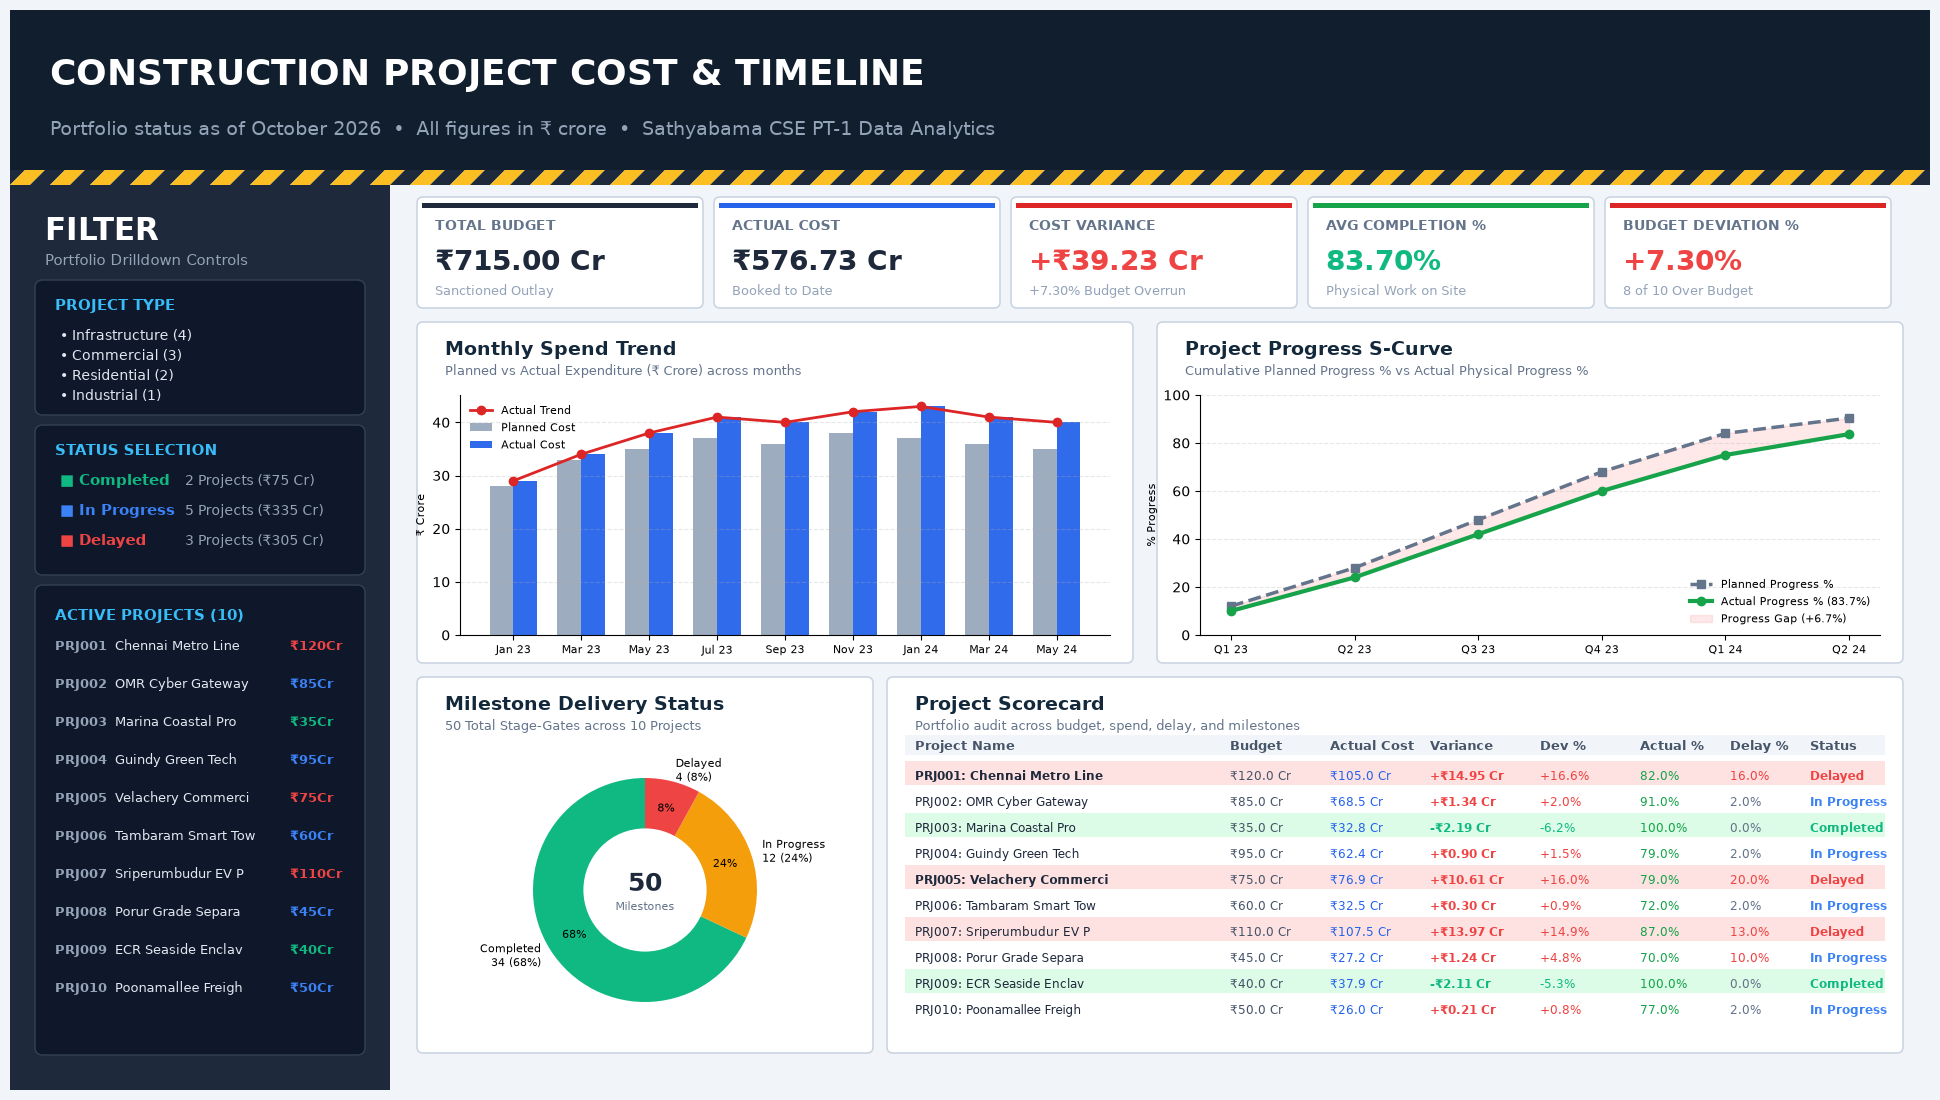

This screenshot's page, from the dashboard's own definition file:
{"tool":"powerbi","page":{"name":"Page 1","canvas":[1920,1080],"ordinal":0},"visuals":[{"type":"shape","box":[0,223.1,407.7,856.4],"z":0},{"type":"cardVisual","fields":{"Data":["_Measures.Total Budget","_Measures.Actual Cost","_Measures.Cost Variance","_Measures.Budget Deviation %","_Measures.Average Project Completion %"]},"box":[407.7,223.1,1512.8,123.1],"z":1000},{"type":"lineClusteredColumnComboChart","title":"Monthly Spend Trend","fields":{"Category":["Project_Cost.Date"],"Y":["_Measures.Planned Cost"],"Y2":["_Measures.Actual Cost"]},"box":[407.7,346.2,648.7,346.2],"z":4000},{"type":"lineChart","title":"Project Progress S-Curve","fields":{"Category":["Project_Progress.Date"],"Y":["_Measures.Planned Progress %"],"Y2":["_Measures.Project Completion %"]},"box":[1056.4,346.2,864.1,346.2],"z":5000},{"type":"donutChart","fields":{"Category":["Milestones.Status"],"Y":["_Measures.Total Milestones"]},"box":[443.6,723.1,612.8,356.4],"z":6000},{"type":"pivotTable","title":"Project Scorecard","fields":{"Rows":["Projects.Project Name"],"Values":["_Measures.Total Budget","_Measures.Actual Cost","_Measures.Cost Variance","_Measures.Budget Deviation %","_Measures.Planned Progress %","_Measures.Project Completion %","_Measures.Milestone Completion %"]},"box":[989.7,692.3,928.2,387.2],"z":7000},{"type":"shape","box":[0,0,1919.1,161.6],"z":8000},{"type":"textbox","box":[19.8,0,1272.8,119.1],"z":9000},{"type":"textbox","box":[19.8,99.2,961,85],"z":10000},{"type":"image","box":[0,150.2,1919.1,68],"z":11000},{"type":"textbox","box":[0,223.1,400,351.3],"z":11001},{"type":"slicer","fields":{"Values":["Projects.Project Type"]},"box":[46.2,320.5,353.8,189.7],"z":11002},{"type":"slicer","fields":{"Values":["Projects.Status"]},"box":[53.8,510.3,300,182.1],"z":11003},{"type":"tableEx","fields":{"Values":["Projects.Project Name","Milestones.Budget Share %"]},"box":[0,692.3,407.7,387.2],"z":11004}]}

Visuals, with their boxes in screenshot pixels (x1, y1, x2, y2), scaled from the page's 1920x1080 canvas onto the 1940x1100 screenshot:
shape: bbox=(0, 227, 412, 1099)
cardVisual - _Measures.Total Budget x _Measures.Actual Cost: bbox=(412, 227, 1939, 353)
"Monthly Spend Trend" lineClusteredColumnComboChart: bbox=(412, 353, 1067, 705)
"Project Progress S-Curve" lineChart: bbox=(1067, 353, 1939, 705)
donutChart - Milestones.Status x _Measures.Total Milestones: bbox=(448, 736, 1067, 1099)
"Project Scorecard" pivotTable: bbox=(1000, 705, 1938, 1099)
shape: bbox=(0, 0, 1939, 165)
textbox: bbox=(20, 0, 1306, 121)
textbox: bbox=(20, 101, 991, 188)
image: bbox=(0, 153, 1939, 222)
textbox: bbox=(0, 227, 404, 585)
slicer - Projects.Project Type: bbox=(47, 326, 404, 520)
slicer - Projects.Status: bbox=(54, 520, 357, 705)
tableEx - Projects.Project Name x Milestones.Budget Share %: bbox=(0, 705, 412, 1099)
